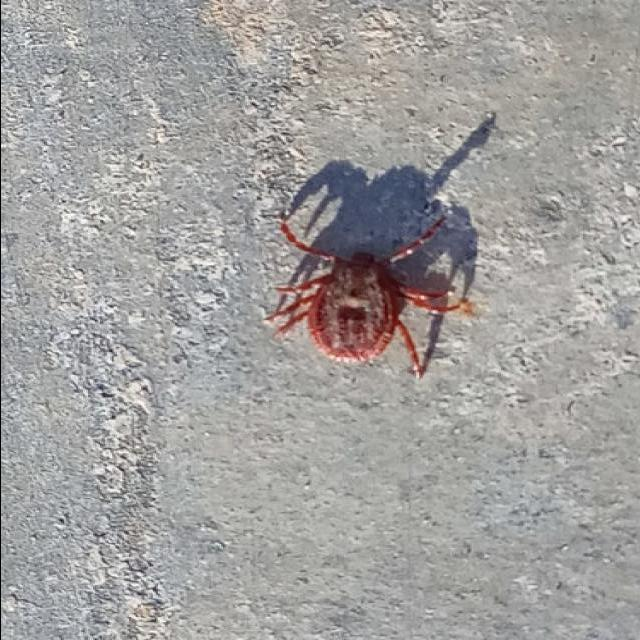Dermacentor Reticulatus-F: (265, 216, 473, 379)
